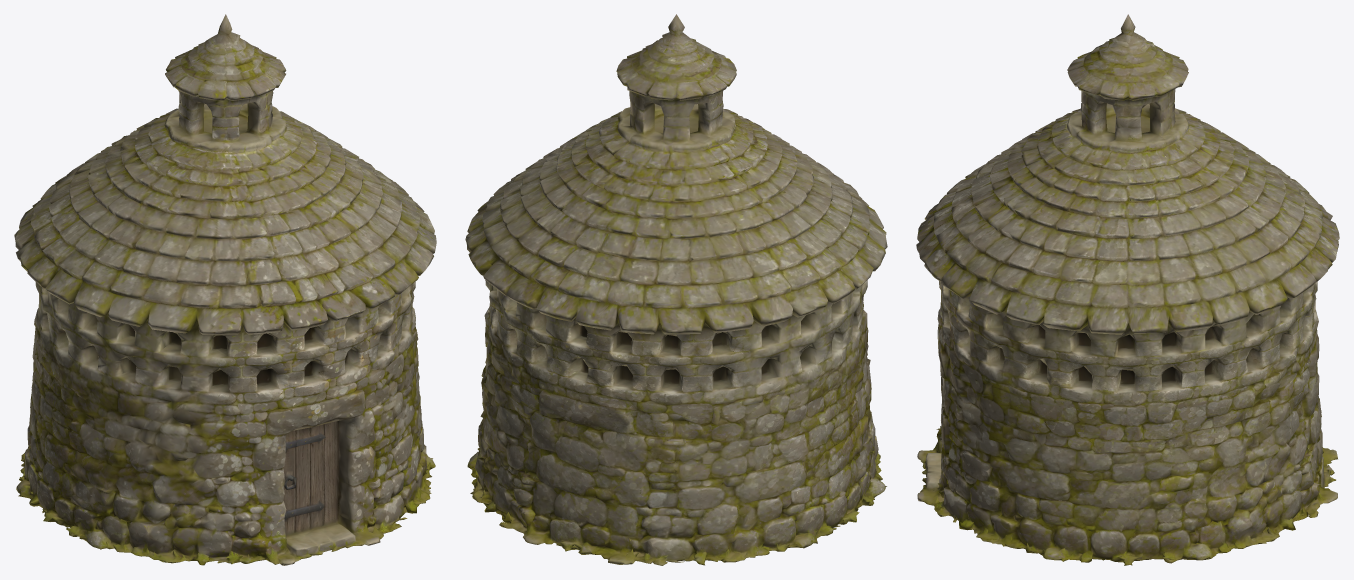
Rendered from dovecote_tripo.glb.
The picture shows the model from 3 angles, left to right: view 1: azimuth 30°, elevation 25°; view 2: azimuth 150°, elevation 25°; view 3: azimuth 270°, elevation 25°; orthographic projection.
Parts seen in each view (by area): view 1: tripo_node_44b2fa2b-9d35-4925-8ad2-f9bef27aa2fd; view 2: tripo_node_44b2fa2b-9d35-4925-8ad2-f9bef27aa2fd; view 3: tripo_node_44b2fa2b-9d35-4925-8ad2-f9bef27aa2fd.
Part boxes in pixels (x1,y1,x2,y2): tripo_node_44b2fa2b-9d35-4925-8ad2-f9bef27aa2fd: (14,14,436,565); tripo_node_44b2fa2b-9d35-4925-8ad2-f9bef27aa2fd: (465,14,887,565); tripo_node_44b2fa2b-9d35-4925-8ad2-f9bef27aa2fd: (916,14,1339,565).
Bounding box in the file's own units: 0.8256 × 1 × 0.828.
1 material, 1 textured.
